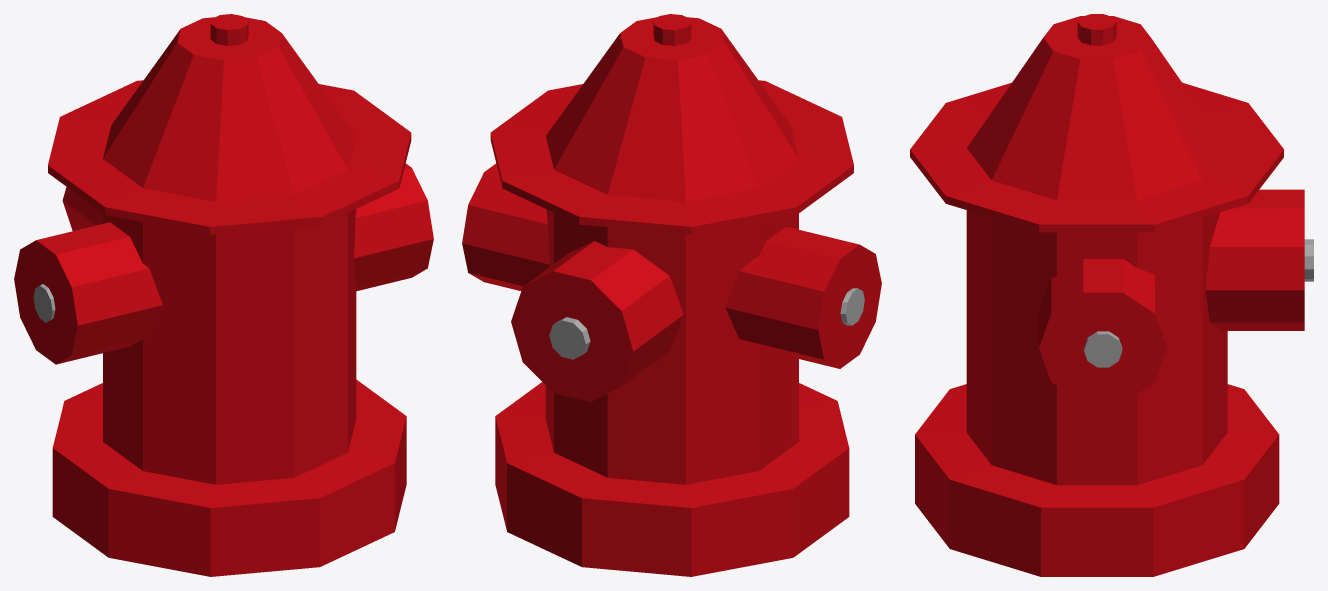
Rendered from FireHydrant_Fixed.fbx.
3 renders of one model, left to right at view 1: azimuth 30°, elevation 25°; view 2: azimuth 150°, elevation 25°; view 3: azimuth 270°, elevation 25°, orthographic.
Visible parts, largest first — view 1: FireHydrant; view 2: FireHydrant; view 3: FireHydrant.
Boxes of the visible parts, x1,y1,x2,y2 form: FireHydrant: (14, 14, 433, 576); FireHydrant: (462, 14, 881, 576); FireHydrant: (910, 14, 1313, 576).
Size of the model in its own units: 326 by 408 by 310.
